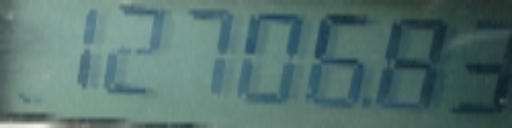0: (239, 9, 300, 107)
1: (77, 7, 102, 92)
2: (103, 1, 164, 98)
3: (450, 16, 511, 114)
6: (307, 12, 368, 110)
7: (173, 1, 234, 98)
8: (381, 16, 442, 114)
d: (361, 95, 373, 109)
